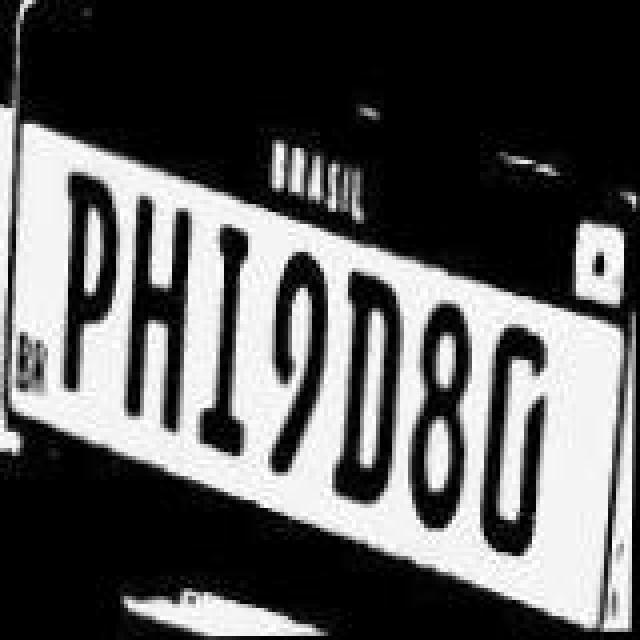8: (406, 264, 482, 532)
9: (266, 232, 334, 480)
D: (480, 300, 556, 568), (330, 254, 406, 506)
H: (116, 186, 196, 434)
I: (190, 204, 266, 464)
P: (52, 164, 124, 408)
